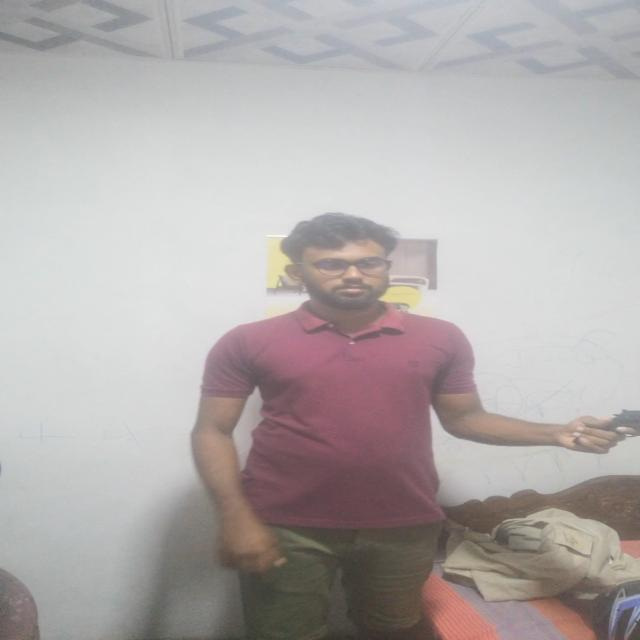Gun_Holder: (564, 406, 640, 452)
Person: (194, 207, 609, 640)
